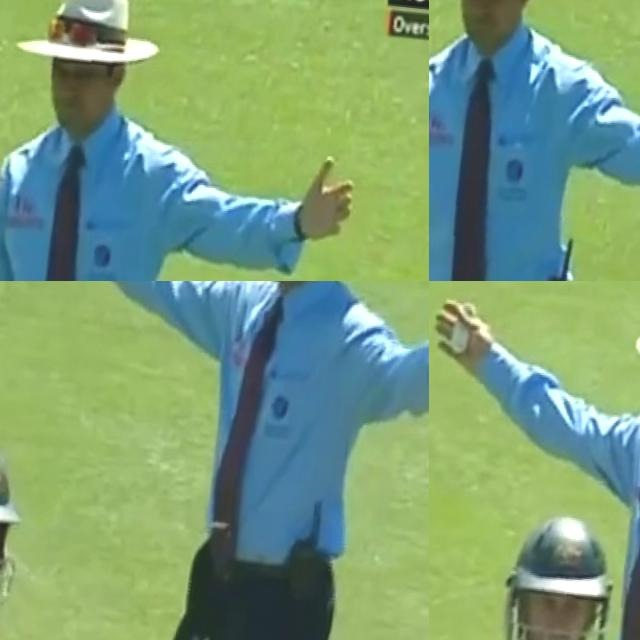No_Ball: (0, 0, 374, 281), (429, 0, 640, 281)
Wide: (0, 281, 429, 640), (429, 281, 640, 622)
